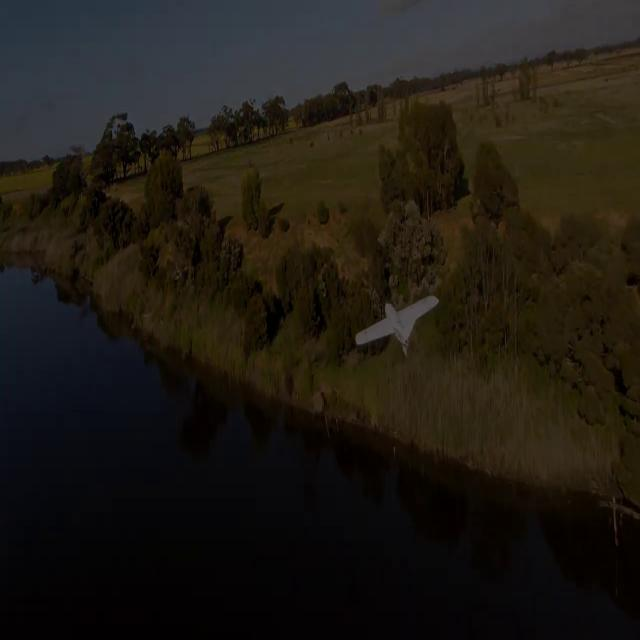iha: (389, 297, 404, 352)
